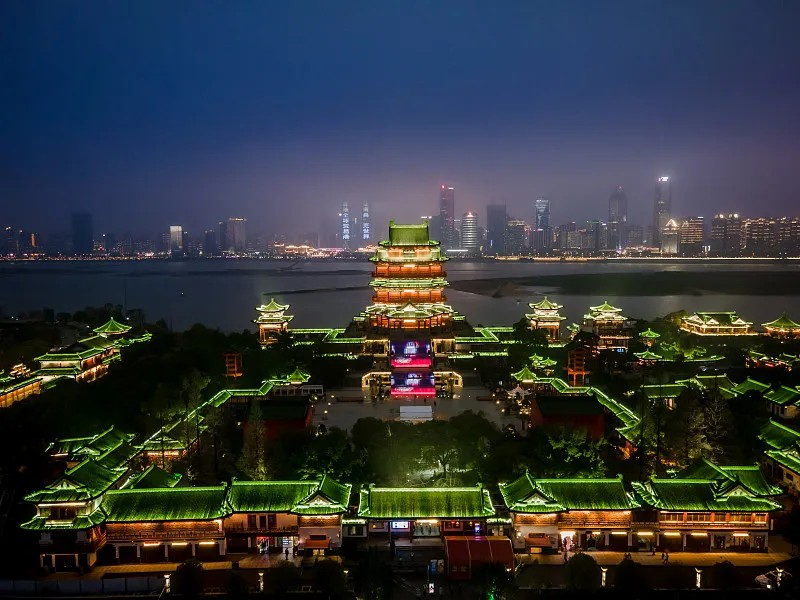Teng: (353, 222, 467, 334)
